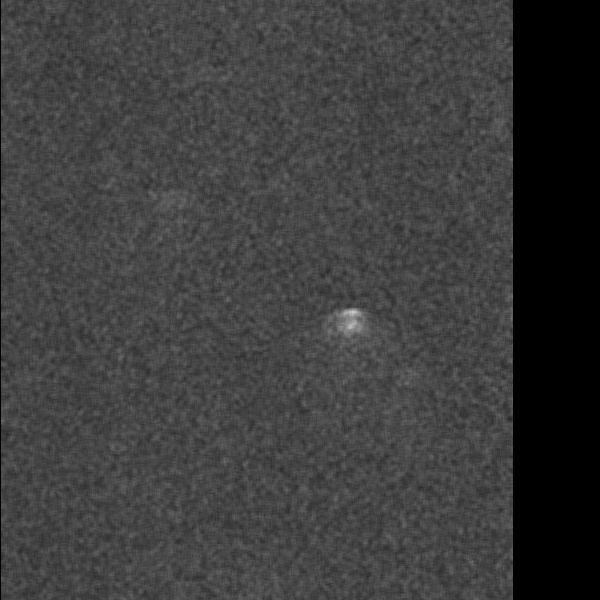spark: (334, 299, 369, 372), (166, 189, 188, 246)
